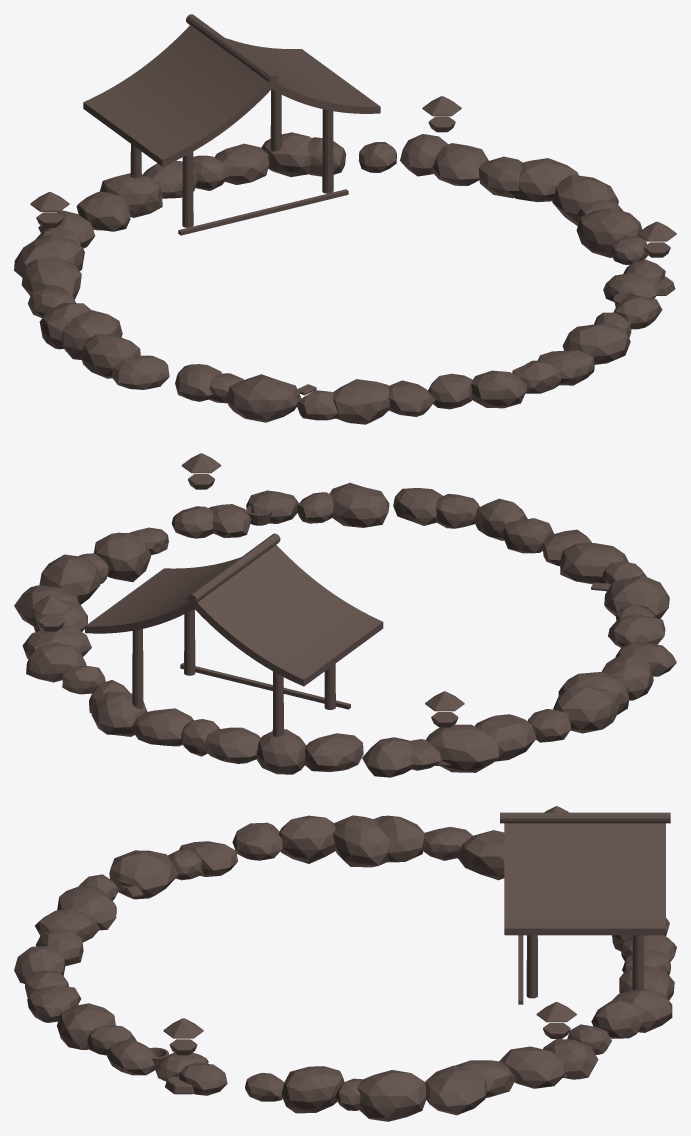
File: onsen.ol.glb
The picture shows the model from 3 angles, top to bottom: view 1: azimuth 30°, elevation 25°; view 2: azimuth 150°, elevation 25°; view 3: azimuth 270°, elevation 25°; orthographic projection. The views are drawn at different scales.
Visible parts, largest first — view 1: outline; view 2: outline; view 3: outline.
Part boxes in pixels (box(x1,y1,x2,y2)): outline: box(14, 14, 676, 424); outline: box(14, 453, 676, 777); outline: box(14, 806, 676, 1121).
Size of the model in its own units: 29.12 by 8.48 by 28.85.
